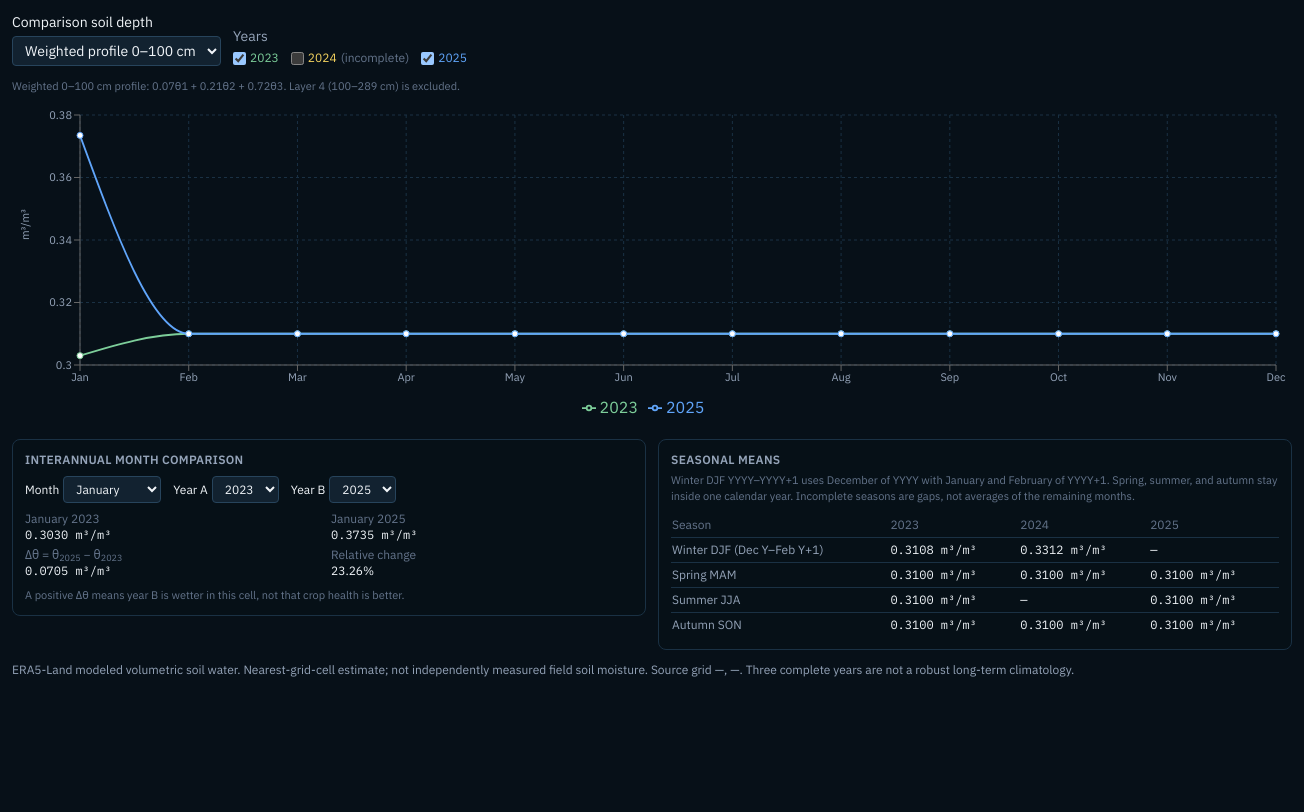
Scenario: YearOverYearSoilChart › toggles years and changes depth without fabricating missing months
Step 1. Click the checkbox labelled "2024" → (297, 58), box [291,52,304,64]
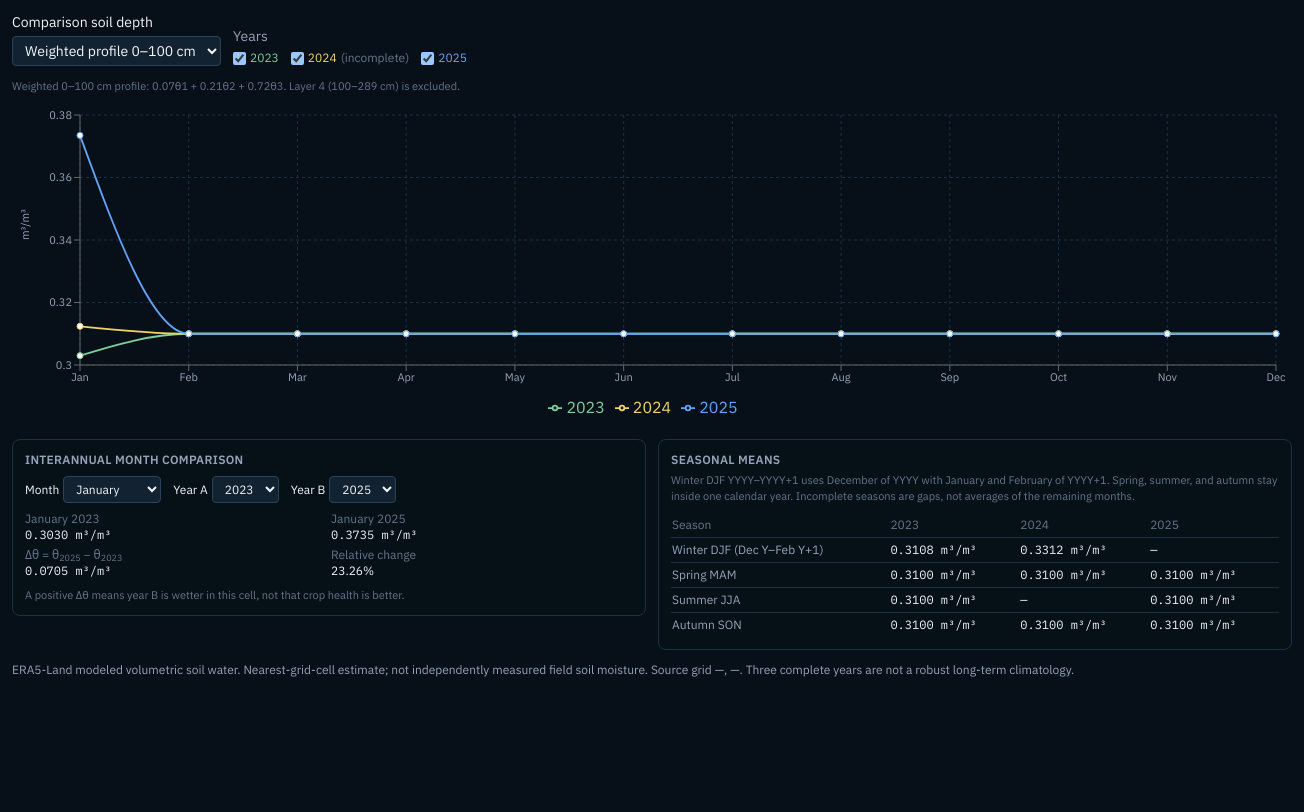
Expected: the checkbox labelled "2024" is checked, [291,52,304,64]
Step 2. Click the checkbox labelled "2023" → (240, 58), box [233,52,246,64]
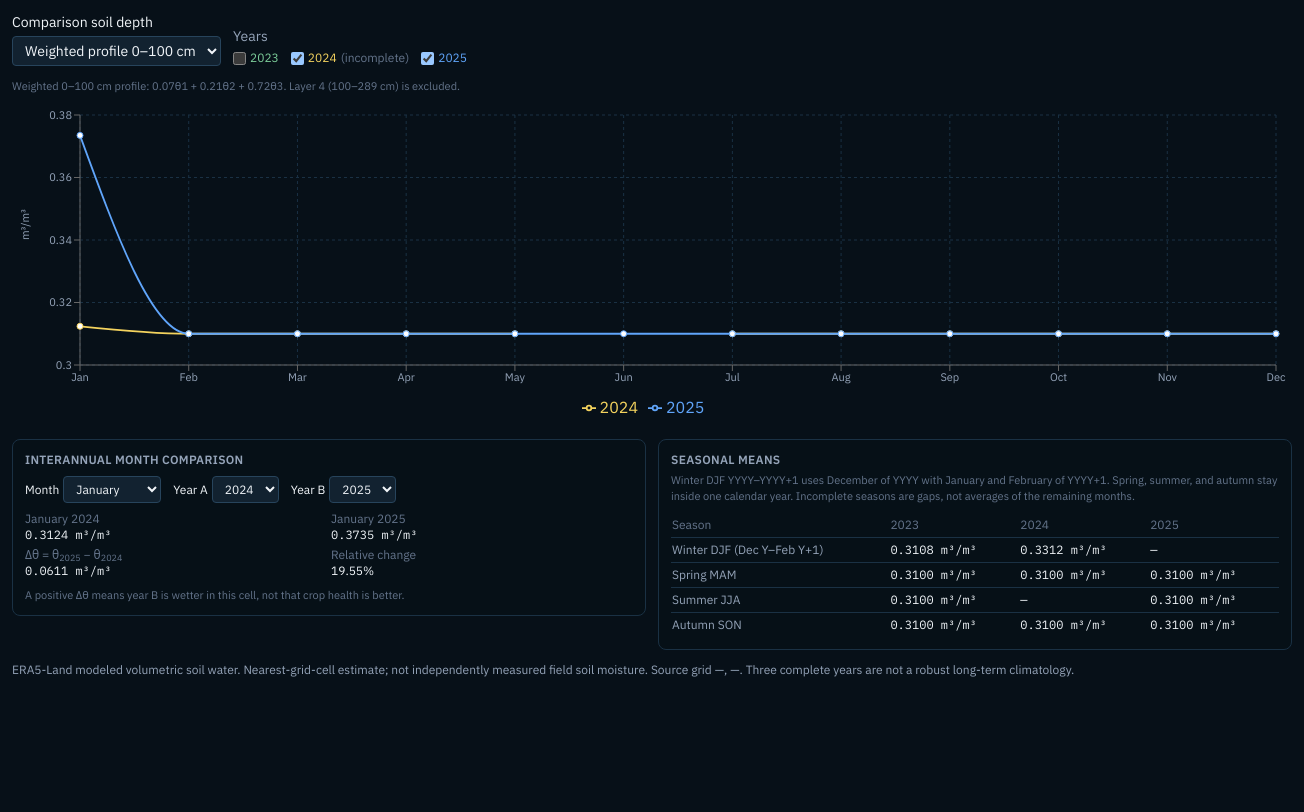
Expected: the checkbox labelled "2023" is not checked, [233,52,246,64]
Step 3. Select "Surface layer 0–7 cm" in the dropdown labelled "Comparison soil depth" → (116, 51), box [12,36,221,66]
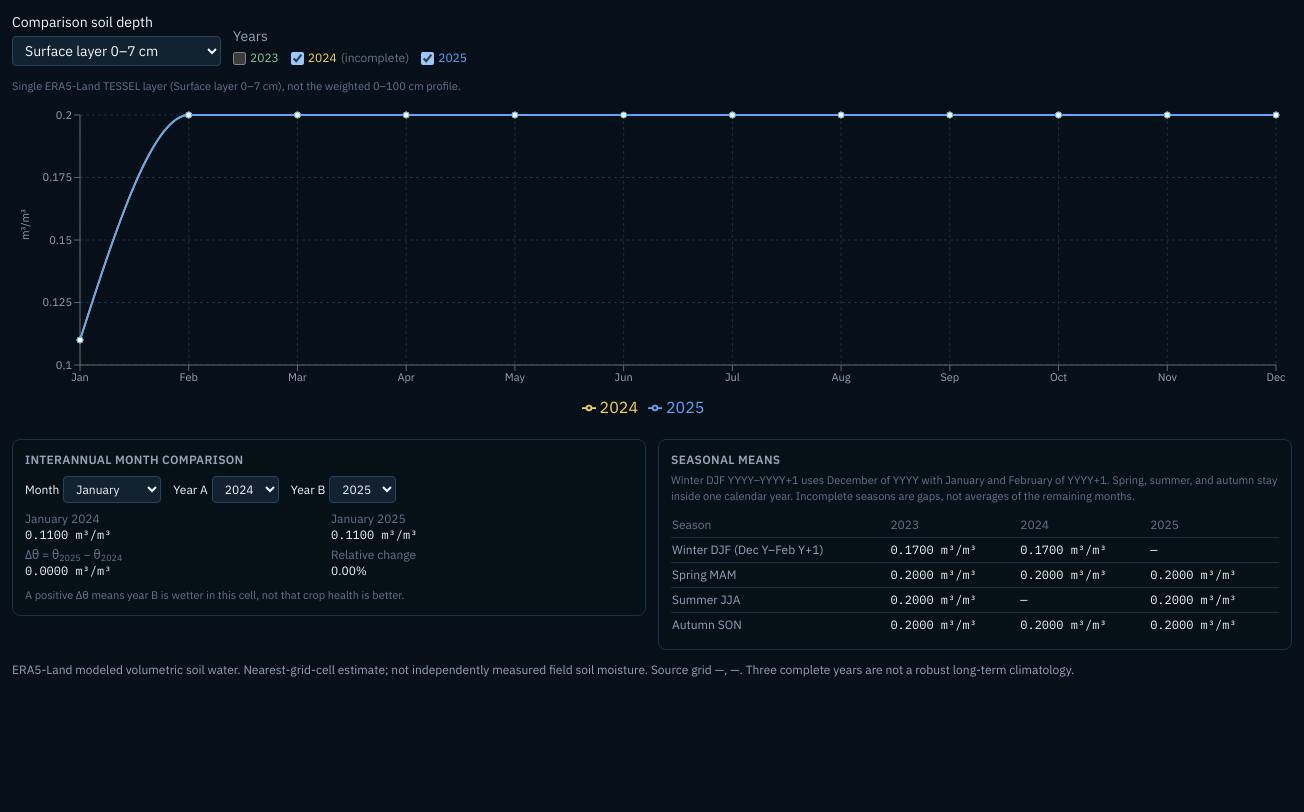
Expected: the element with test id "soil-yoy-seasons" shows "Winter DJF", [671,472,1277,503]
Expected: the text "Single ERA5-Land TESSEL layer" is shown, [12,79,461,93]
